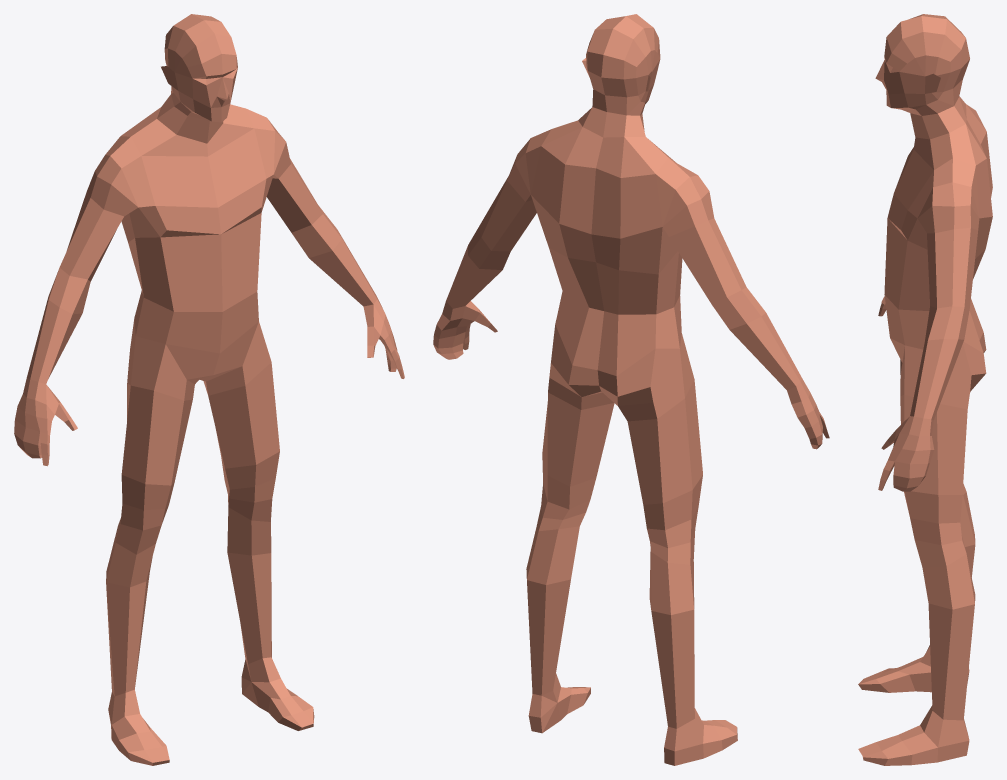
File: man.fbx
3 renders of one model, left to right at view 1: azimuth 30°, elevation 25°; view 2: azimuth 150°, elevation 25°; view 3: azimuth 270°, elevation 25°, orthographic.
Parts seen in each view (by area): view 1: male; view 2: male; view 3: male.
Boxes of the visible parts, x1=… form: male: x1=14, y1=14, x2=404, y2=765; male: x1=433, y1=14, x2=829, y2=765; male: x1=858, y1=14, x2=992, y2=765.
Bounding box in the file's own units: 196 × 350 × 60.57.
